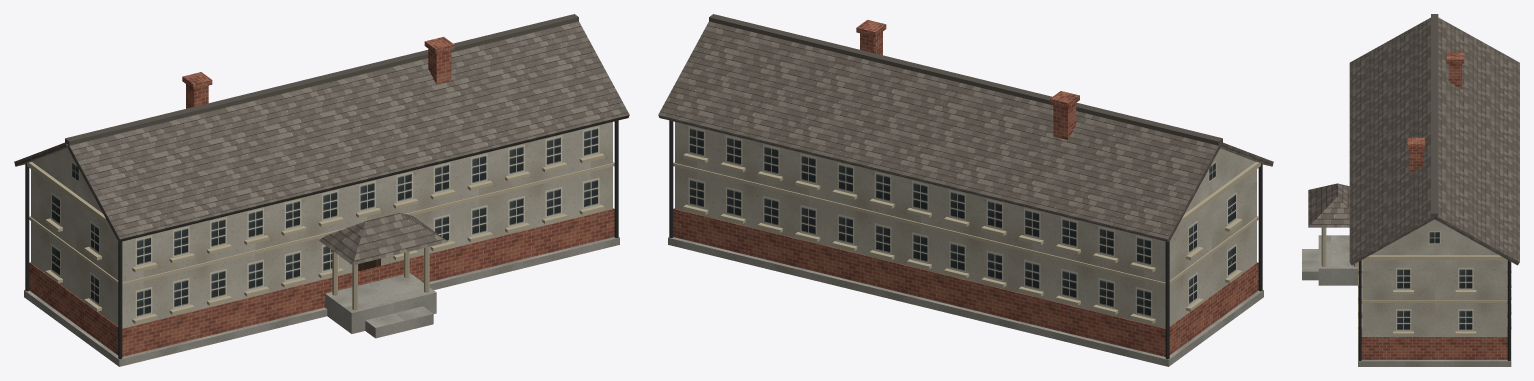
The model's file is barracks.glb.
3 renders of one model, left to right at view 1: azimuth 30°, elevation 25°; view 2: azimuth 150°, elevation 25°; view 3: azimuth 270°, elevation 25°, orthographic. The views are drawn at different scales.
Visible parts, largest first — view 1: toit_pan_avant, murs, soubassement, fenetre (×10), socle, toit_faitage, auvent, perron, bandeau, descente (×3), toit_pignon_b, marche (+2 smaller); view 2: toit_pan_arriere, murs, soubassement, fenetre (×12), socle, toit_faitage, bandeau, descente (×3), toit_pignon_b, cheminee, corniche; view 3: toit_pan_avant, toit_pan_arriere, murs, soubassement, toit_pignon_a, auvent, perron, toit_faitage, fenetre (×4), socle, corniche, descente (×2) (+5 smaller).
Boxes of the visible parts, bbox=[...] form: toit_pan_avant: bbox=[67, 21, 629, 242]; murs: bbox=[31, 122, 612, 328]; soubassement: bbox=[29, 208, 614, 356]; fenetre (×10): bbox=[135, 126, 599, 318]; socle: bbox=[24, 237, 619, 366]; toit_faitage: bbox=[65, 14, 578, 145]; auvent: bbox=[319, 213, 448, 265]; perron: bbox=[325, 273, 436, 333]; bandeau: bbox=[29, 162, 614, 286]; descente (×3): bbox=[25, 120, 618, 359]; toit_pignon_b: bbox=[32, 148, 102, 213]; marche: bbox=[365, 306, 433, 338]; toit_pan_arriere: bbox=[658, 21, 1220, 242]; murs: bbox=[675, 122, 1256, 328]; soubassement: bbox=[673, 208, 1258, 356]; fenetre (×12): bbox=[688, 126, 1152, 318]; socle: bbox=[668, 237, 1263, 366]; toit_faitage: bbox=[709, 14, 1222, 145]; bandeau: bbox=[673, 162, 1258, 286]; descente (×3): bbox=[669, 120, 1262, 359]; toit_pignon_b: bbox=[1185, 148, 1255, 213]; cheminee: bbox=[1053, 103, 1076, 139]; corniche: bbox=[1178, 162, 1260, 226]; toit_pan_avant: bbox=[1349, 17, 1434, 265]; toit_pan_arriere: bbox=[1434, 17, 1519, 265]; murs: bbox=[1362, 260, 1507, 336]; soubassement: bbox=[1361, 303, 1507, 359]; toit_pignon_a: bbox=[1371, 219, 1498, 255]; auvent: bbox=[1308, 183, 1349, 227]; perron: bbox=[1318, 235, 1358, 285]; toit_faitage: bbox=[1431, 14, 1438, 216]; fenetre (×4): bbox=[1396, 267, 1473, 331]; socle: bbox=[1358, 273, 1511, 366]; corniche: bbox=[1362, 255, 1507, 260]; descente (×2): bbox=[1358, 260, 1510, 360].
Size of the model in its own units: 4.56 by 1.8 by 2.1.
11 materials, 8 textured.
